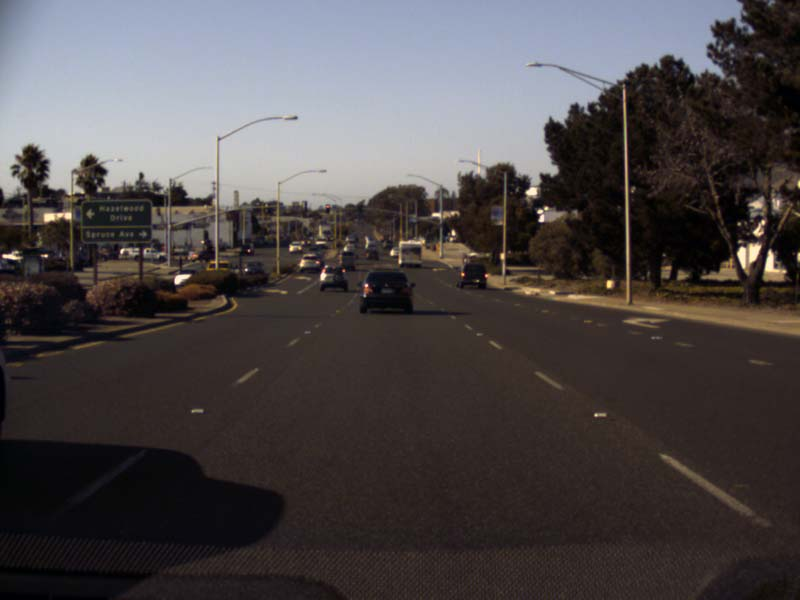Red: (325, 204, 330, 214)
